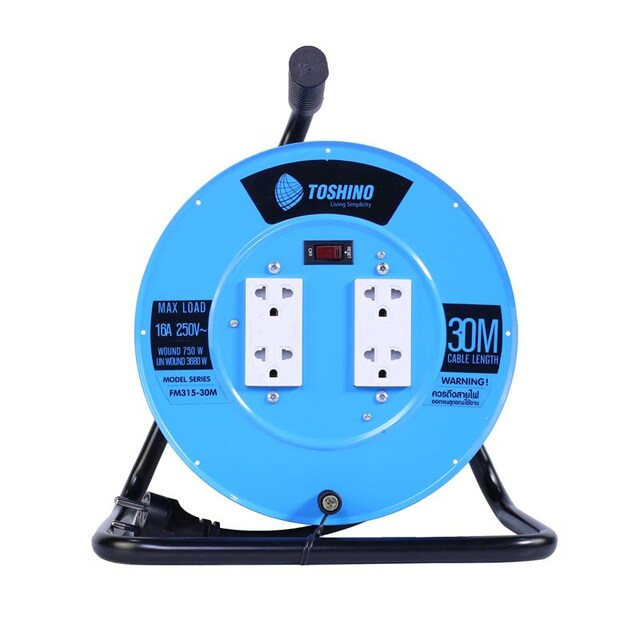Three_eye_plug: (134, 122, 515, 535)
